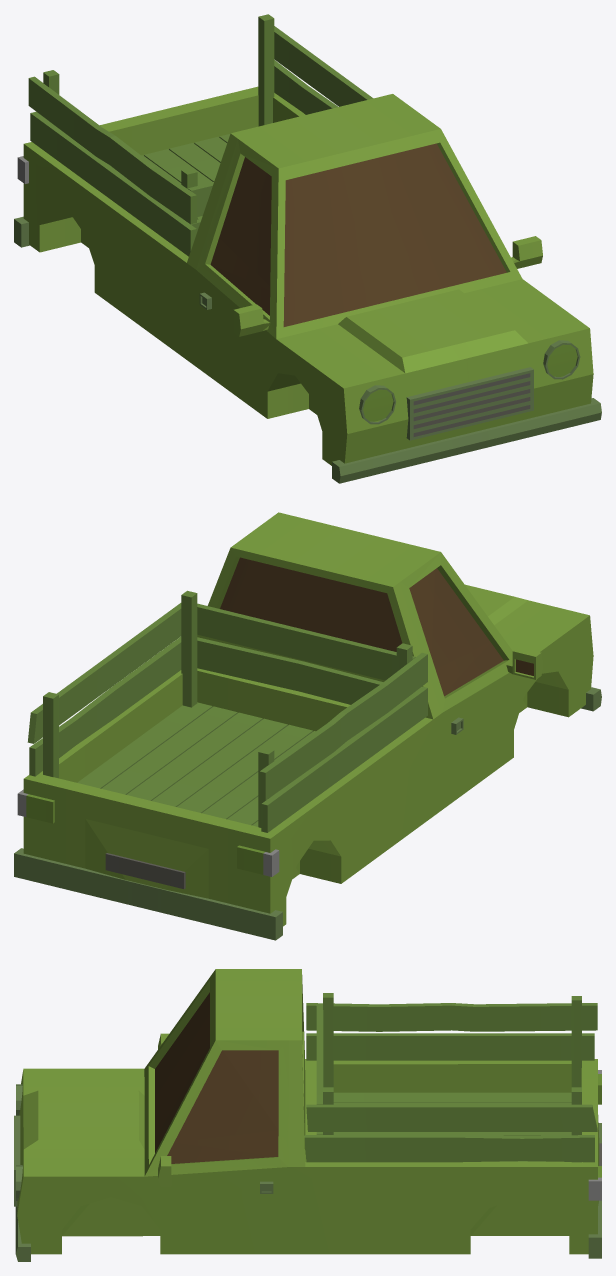
Rendered from Car_06.fbx.
3 views of the same model, one above another, from view 1: azimuth 30°, elevation 25°; view 2: azimuth 150°, elevation 25°; view 3: azimuth 270°, elevation 25° (orthographic). The views are drawn at different scales.
Visible parts, largest first — view 1: Car_06; view 2: Car_06; view 3: Car_06.
Boxes of the visible parts, <box> form: Car_06: <box>14,14,601,483</box>; Car_06: <box>14,512,601,940</box>; Car_06: <box>14,969,601,1261</box>.
Size of the model in its own units: 1.96 by 1.38 by 3.67.
